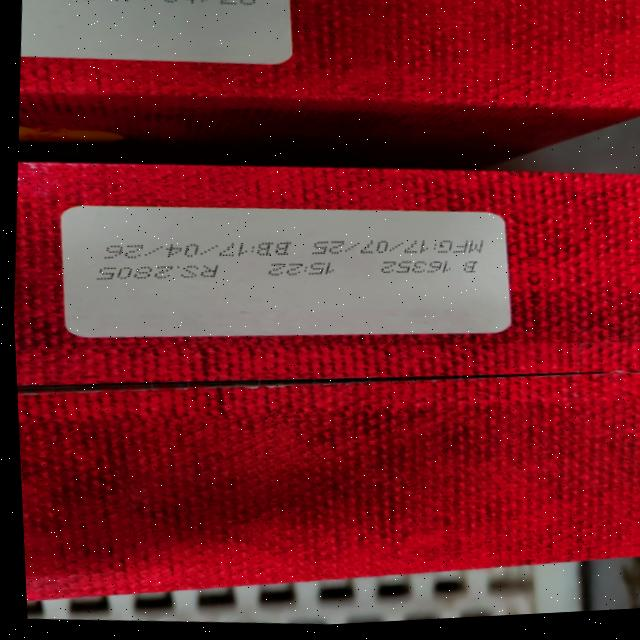BB: (103, 229, 295, 270)
Batch: (376, 253, 478, 280)
MFG: (314, 227, 488, 265)
RS: (92, 257, 218, 287)
TimeStamp: (266, 257, 337, 280)
